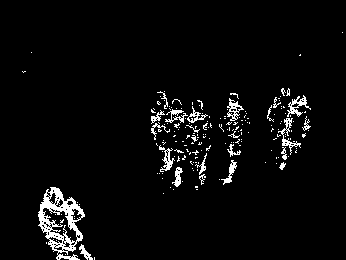person: (35, 185, 94, 260), (218, 90, 251, 186), (184, 97, 213, 189), (162, 95, 190, 187), (279, 92, 311, 172), (149, 89, 177, 178), (266, 87, 300, 154)
